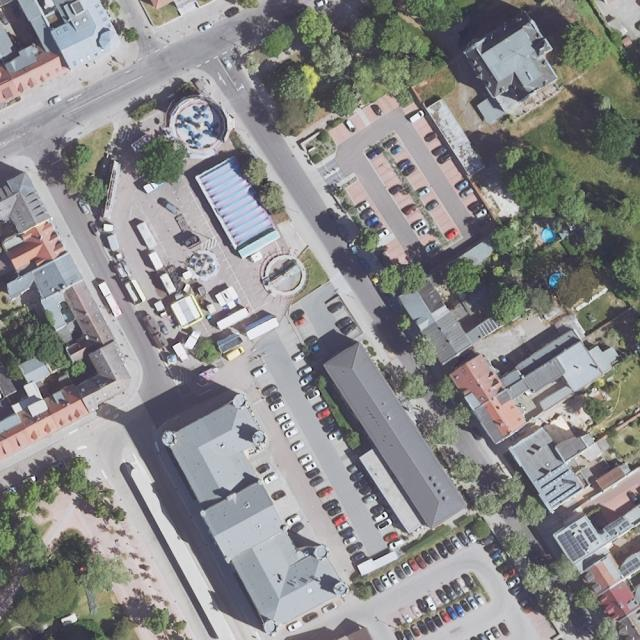PV: (558, 529, 586, 561), (549, 484, 581, 507), (541, 470, 572, 491), (537, 463, 569, 483), (619, 557, 640, 577), (604, 516, 626, 532), (584, 528, 598, 543), (577, 533, 589, 548), (546, 487, 562, 498), (609, 528, 617, 537), (580, 521, 588, 529), (571, 522, 578, 530), (621, 522, 629, 528)
